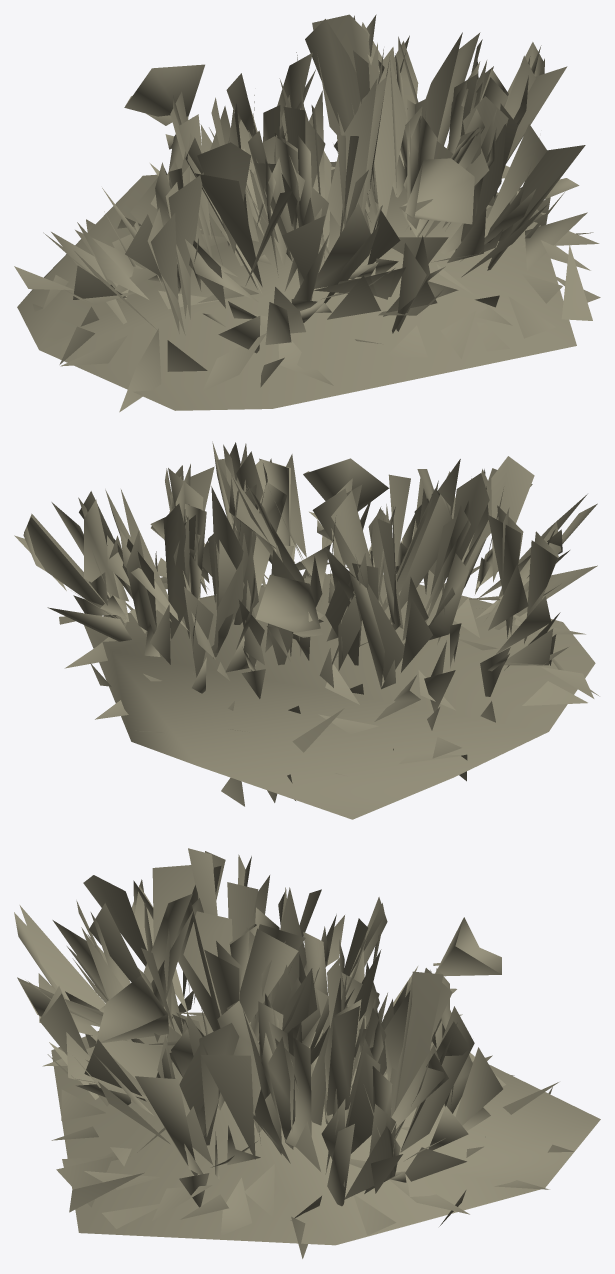
Rendered from succulent-lod1.glb.
3 views of the same model, one above another, from view 1: azimuth 30°, elevation 25°; view 2: azimuth 150°, elevation 25°; view 3: azimuth 270°, elevation 25° (orthographic). The views are drawn at different scales.
Parts seen in each view (by area): view 1: succulent; view 2: succulent; view 3: succulent.
Boxes of the visible parts, x1,y1,x2,y2 form: succulent: (14, 14, 600, 412); succulent: (14, 441, 599, 819); succulent: (14, 848, 600, 1258).
Size of the model in its own units: 1.14 by 0.5011 by 1.
